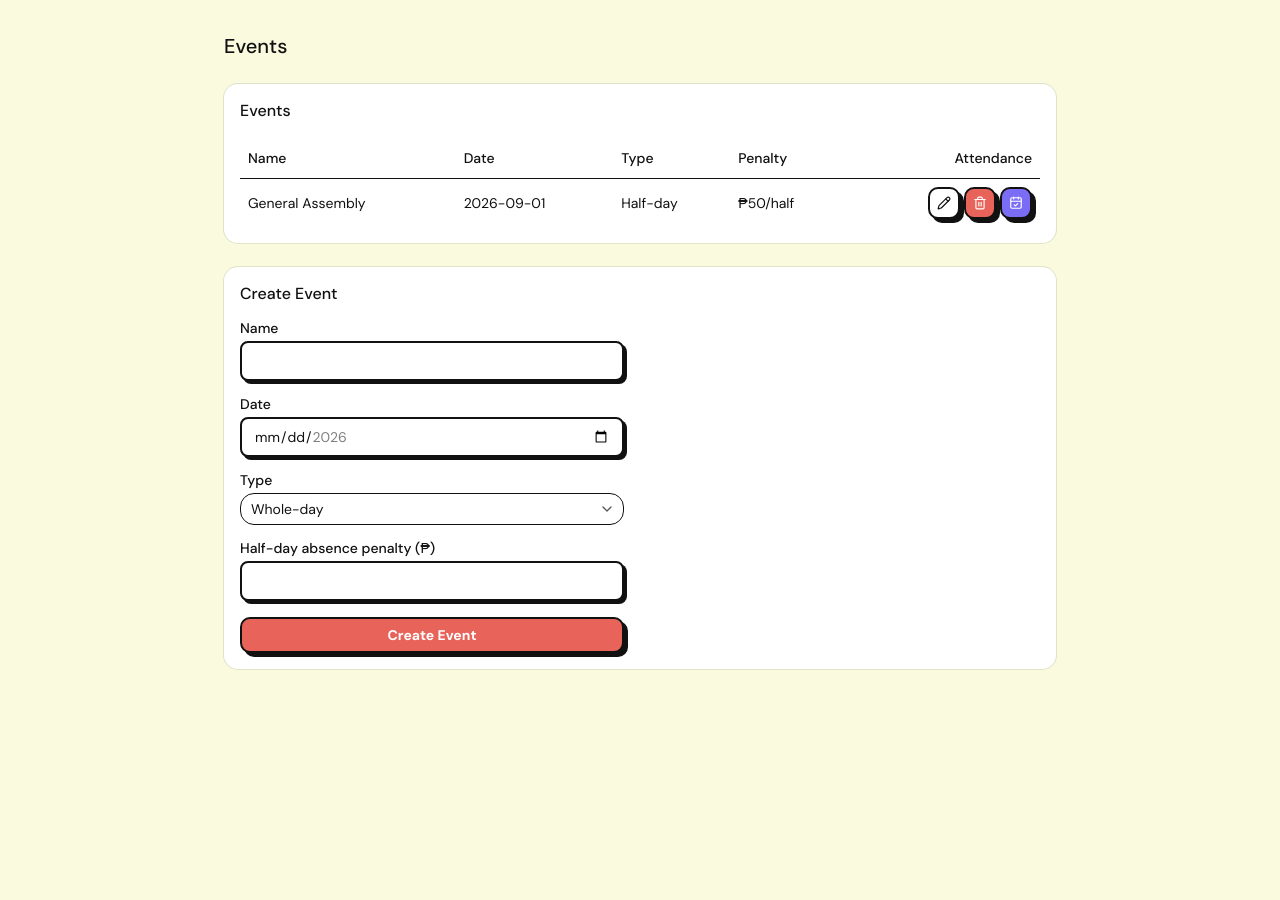
Test: Event edit confirmation (Issue #222) › does not save on submit — opens a confirmation naming the change first
The image size is (1280, 900).
Click the button named "Edit". click: x=944, y=202
box: [928,186,960,218]
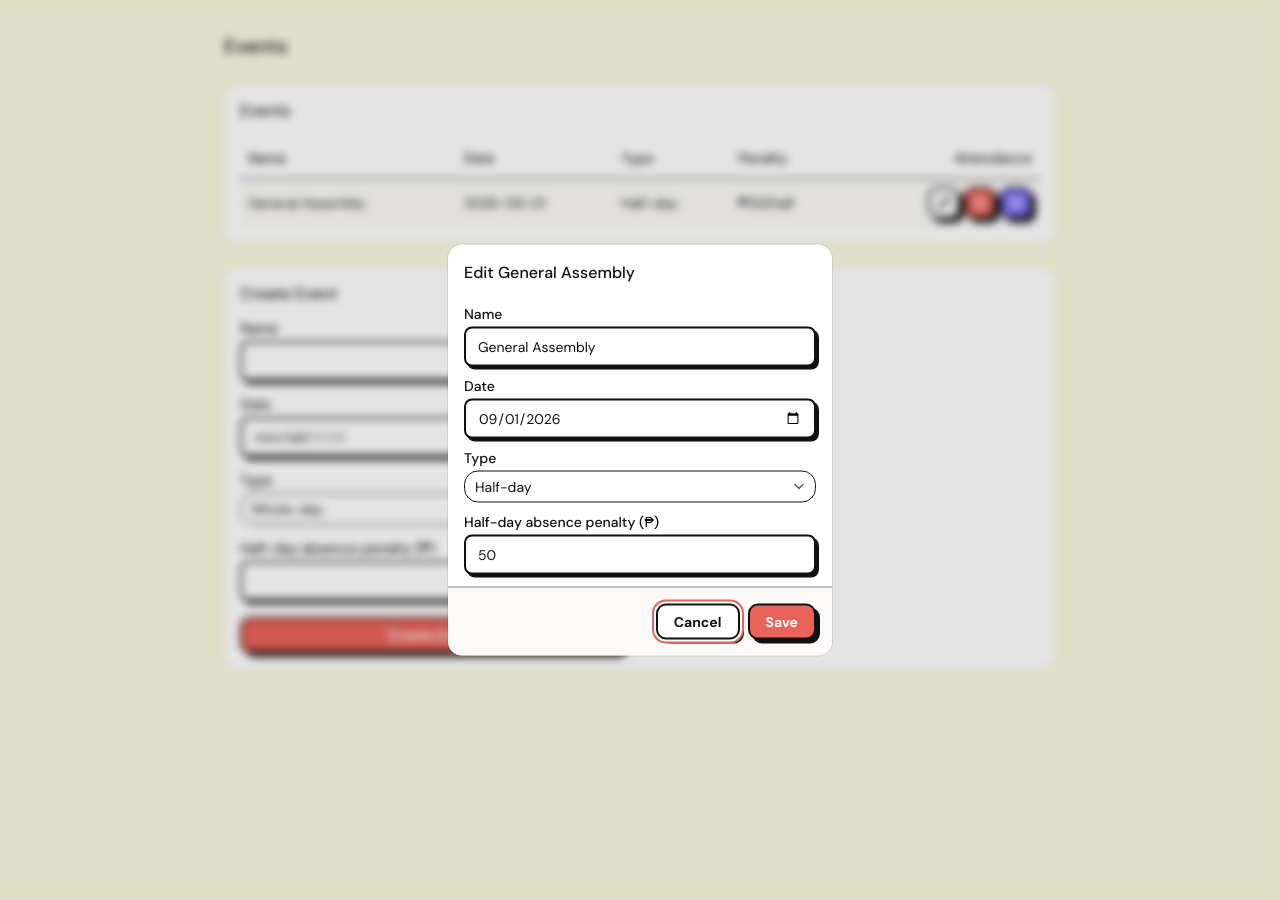
Replace the text in the field showing "General Assembly" with "General Assembly (Rescheduled)". click: x=640, y=346
box: [464,326,816,366]
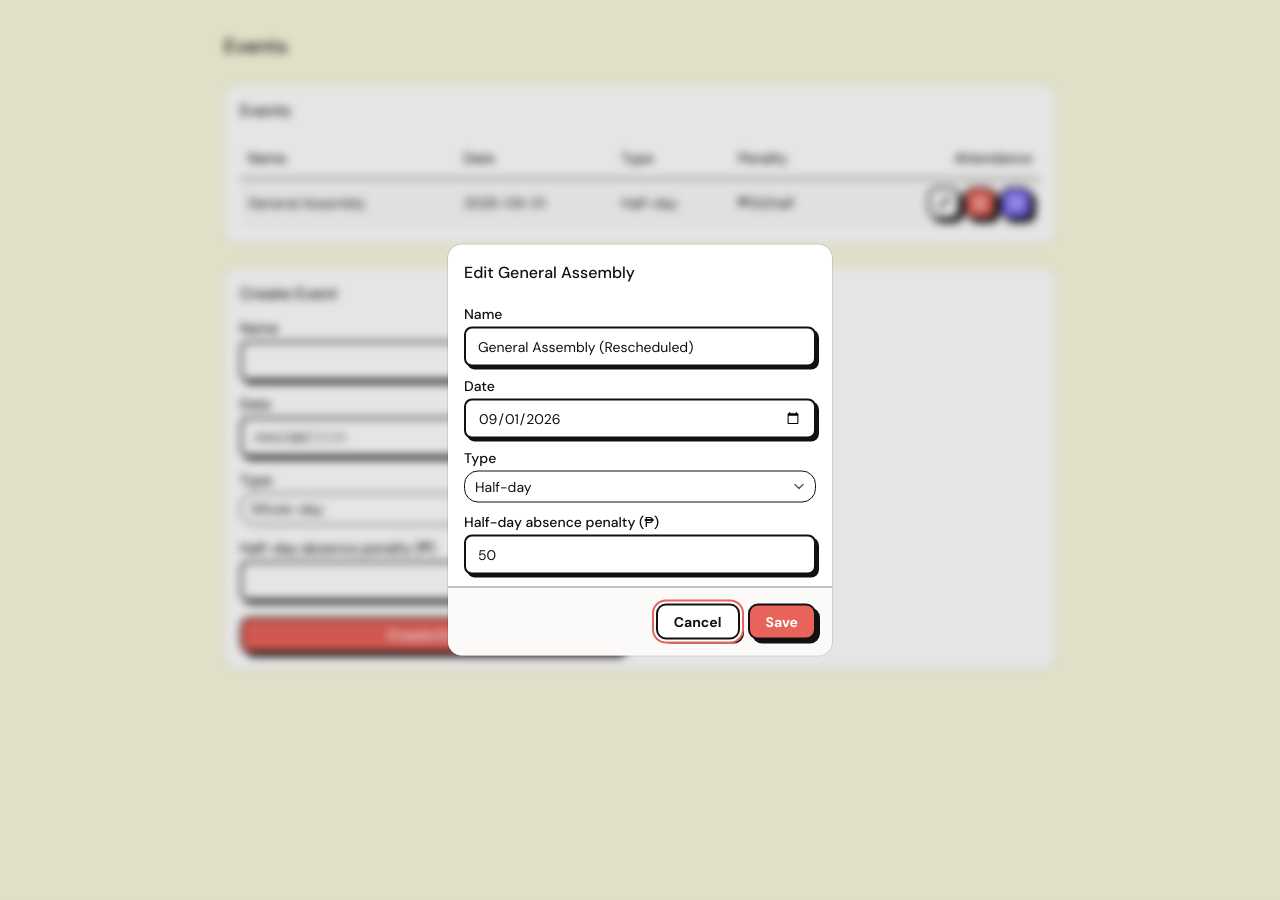
Click the button "Save". click: x=782, y=622
box: [748,604,816,640]
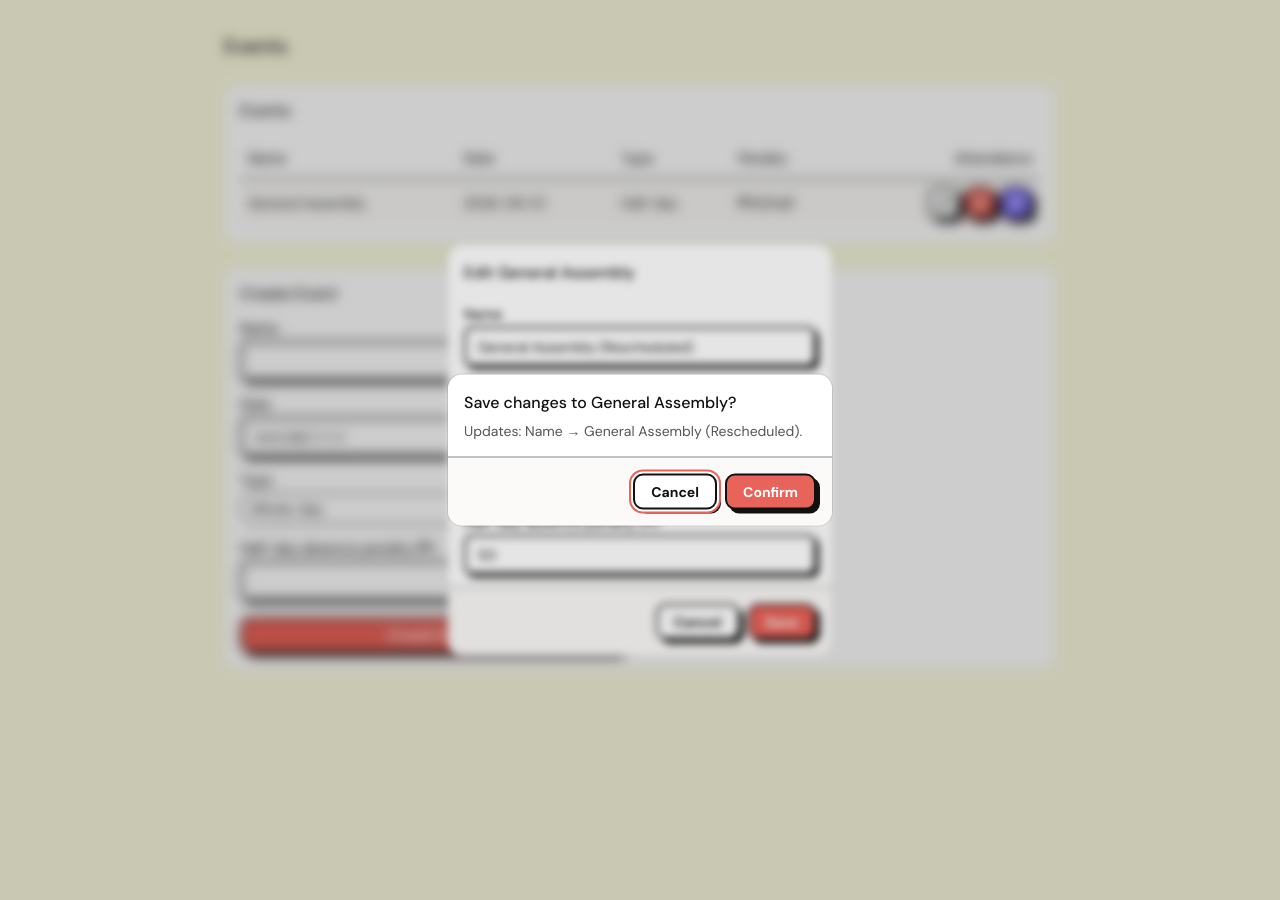
Result: the text "Updates: Name → General Assembly (Rescheduled)." is shown at [464,420,802,440]
Result: the heading "Save changes to General Assembly?" is shown at [464,390,736,414]
